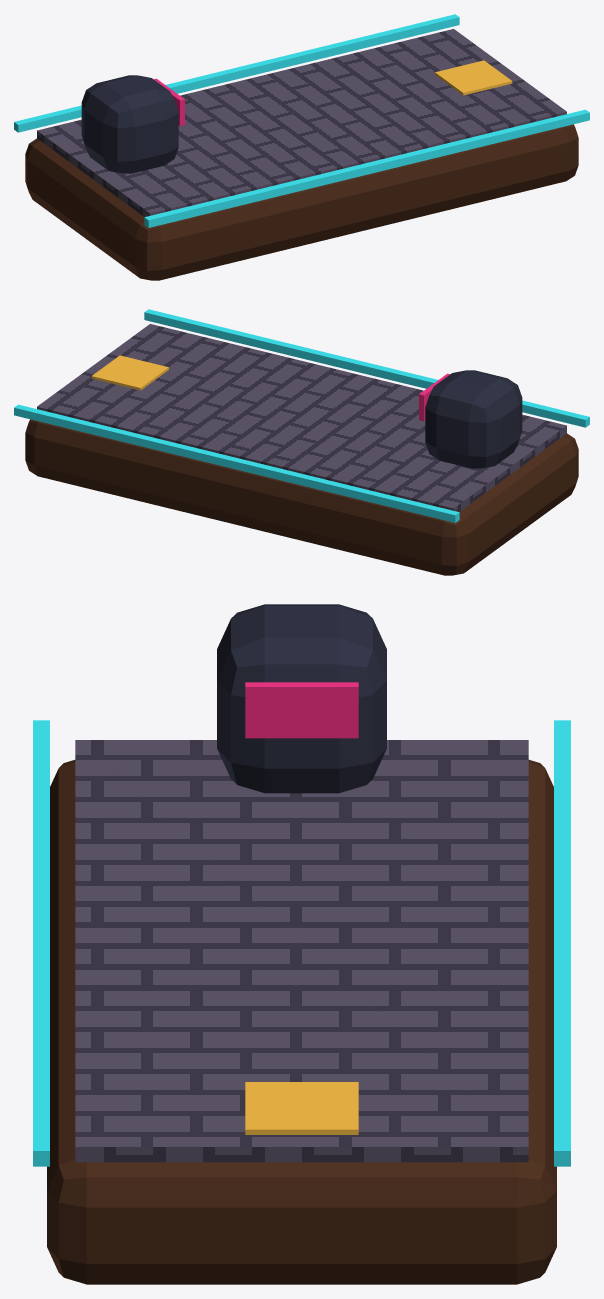
Rendered from pf_barque.glb.
3 views of the same model, one above another, from view 1: azimuth 30°, elevation 25°; view 2: azimuth 150°, elevation 25°; view 3: azimuth 270°, elevation 25° (orthographic). The views are drawn at different scales.
Parts seen in each view (by area): view 1: p_box.1611, p_rbox.164, p_rbox.165, p_box.1612, p_box.1613, p_box.1615; view 2: p_box.1611, p_rbox.164, p_rbox.165, p_box.1613, p_box.1612, p_box.1615; view 3: p_box.1611, p_rbox.164, p_rbox.165, p_box.1612, p_box.1613, p_box.1614, p_box.1615.
Boxes of the visible parts, x1,y1,x2,y2 form: p_box.1611: (37,29,566,216); p_rbox.164: (25,124,578,280); p_rbox.165: (81,75,178,173); p_box.1612: (144,109,589,227); p_box.1613: (14,14,459,132); p_box.1615: (435,60,512,95); p_box.1611: (37,324,566,511); p_rbox.164: (25,419,578,575); p_rbox.165: (425,370,522,468); p_box.1613: (14,404,459,522); p_box.1612: (144,309,589,427); p_box.1615: (91,355,168,390); p_box.1611: (75,740,528,1162); p_rbox.164: (47,760,556,1284); p_rbox.165: (217,604,386,793); p_box.1612: (33,720,49,1166); p_box.1613: (554,720,570,1166); p_box.1614: (245,682,358,738); p_box.1615: (245,1082,358,1134).
Size of the model in its own units: 3.6 by 1.15 by 1.9.
Materials: 6 (1 with a texture image).
